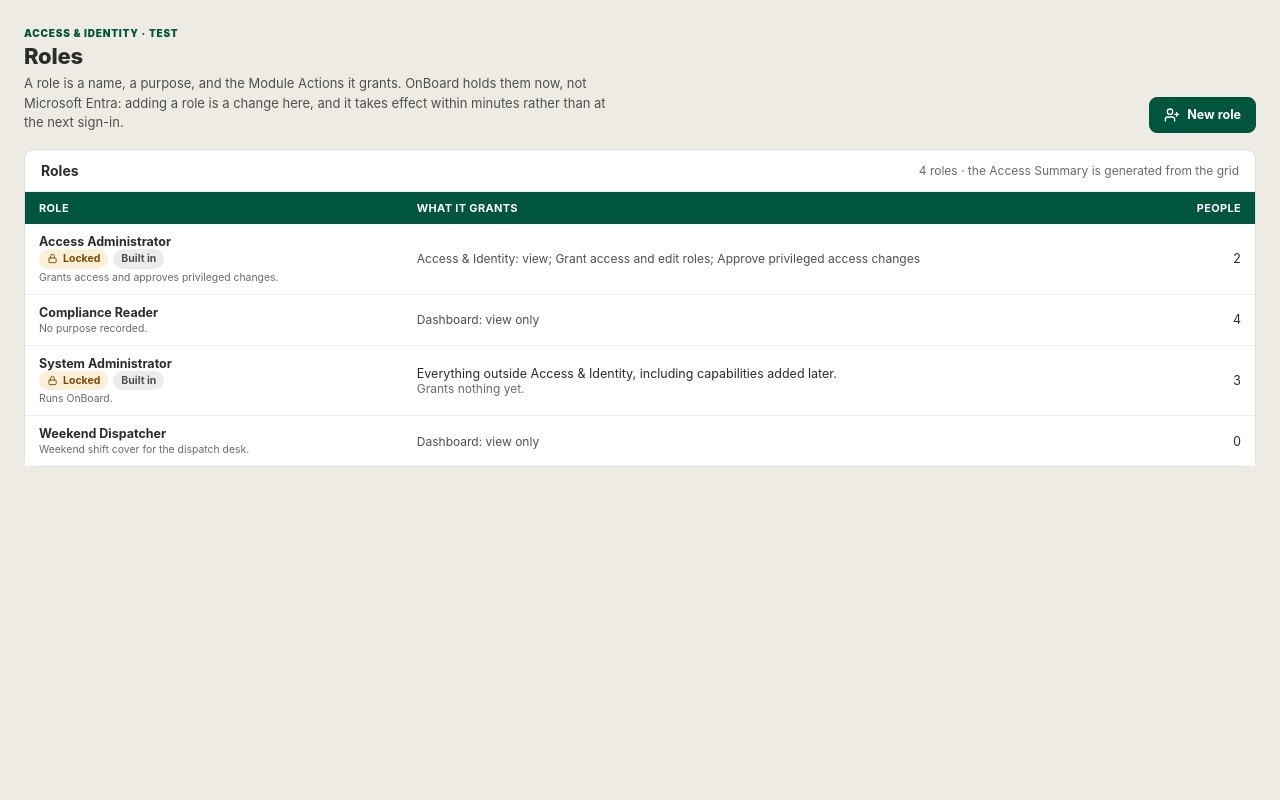
Roles › does not offer Access & Identity actions on an ordinary role, and says why
Click the button "Weekend Dispatcher". click: coordinates (103, 434)
box: [39,426,166,441]
(page scrolled)
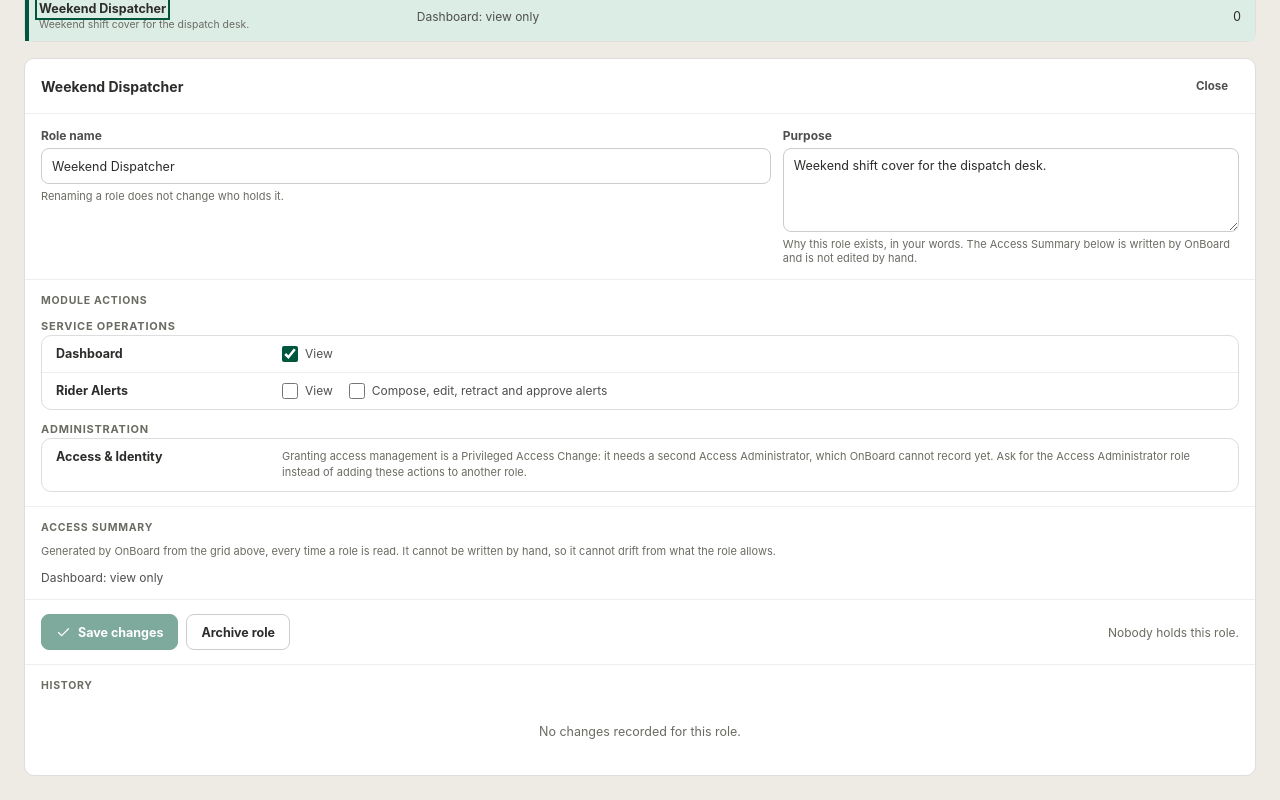
Now the text "Privileged Access Change" is shown, box [282,449,1190,479]
